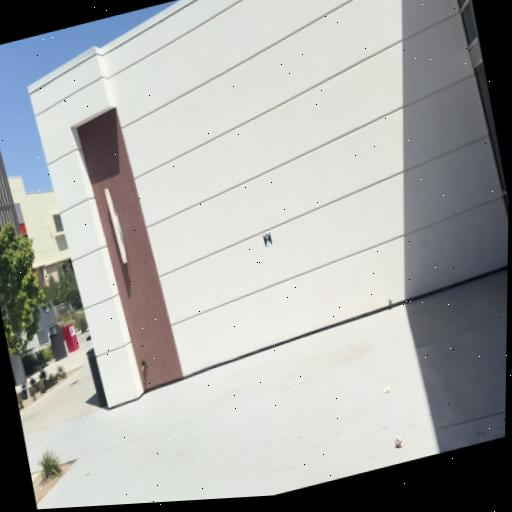target0: (263, 230, 273, 248)
